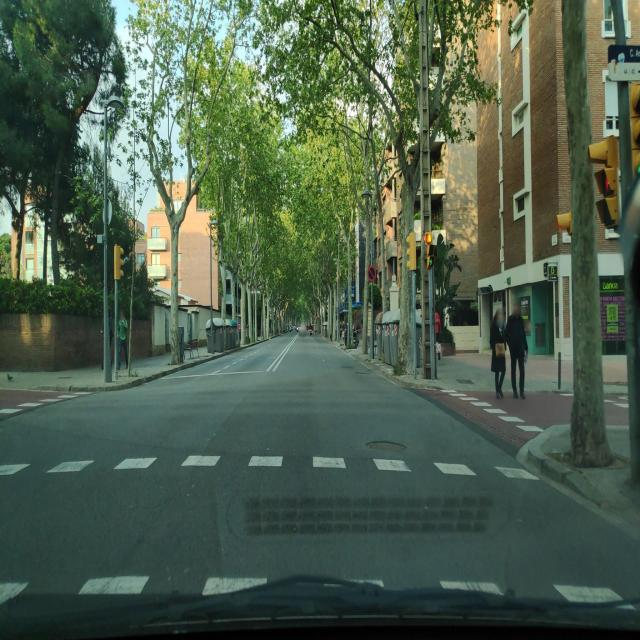forb_stopping: (368, 267, 375, 281)
